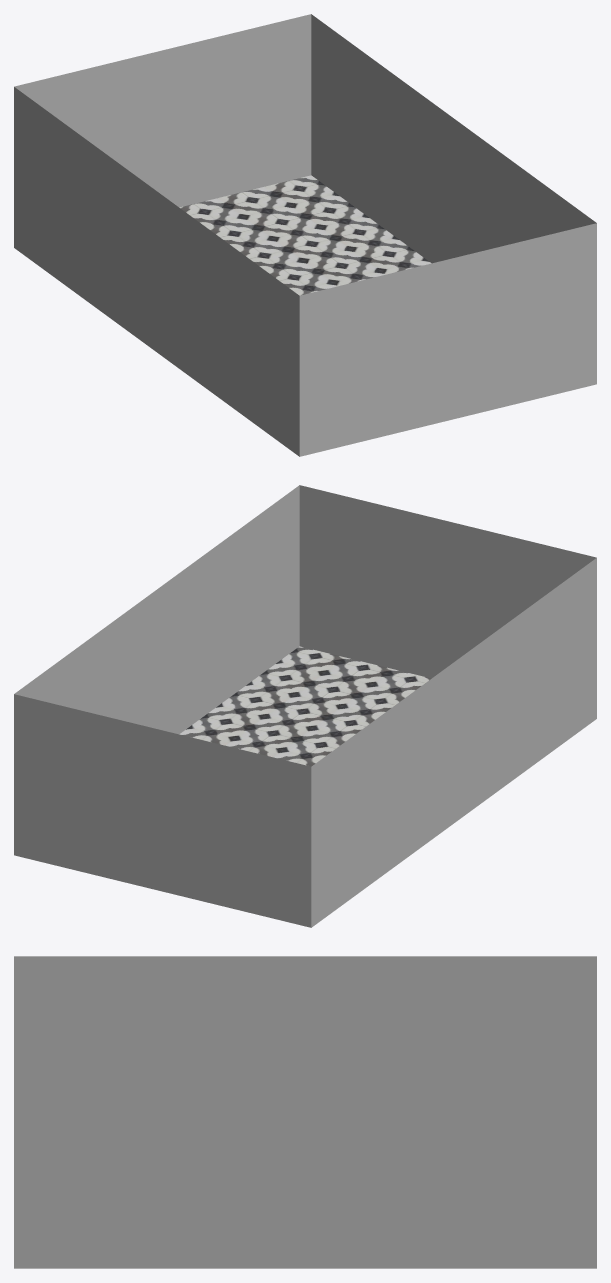
The model's file is LibraryRoomBasement.FBX.
3 views of the same model, one above another, from view 1: azimuth 30°, elevation 25°; view 2: azimuth 150°, elevation 25°; view 3: azimuth 270°, elevation 25° (orthographic). The views are drawn at different scales.
Parts seen in each view (by area): view 1: lib_rooms_basement; view 2: lib_rooms_basement; view 3: lib_rooms_basement.
Part boxes in pixels (<box>): lib_rooms_basement: <box>14,14,596,456</box>; lib_rooms_basement: <box>14,485,596,927</box>; lib_rooms_basement: <box>14,956,596,1268</box>.
Size of the model in its own units: 295 by 490 by 153.
